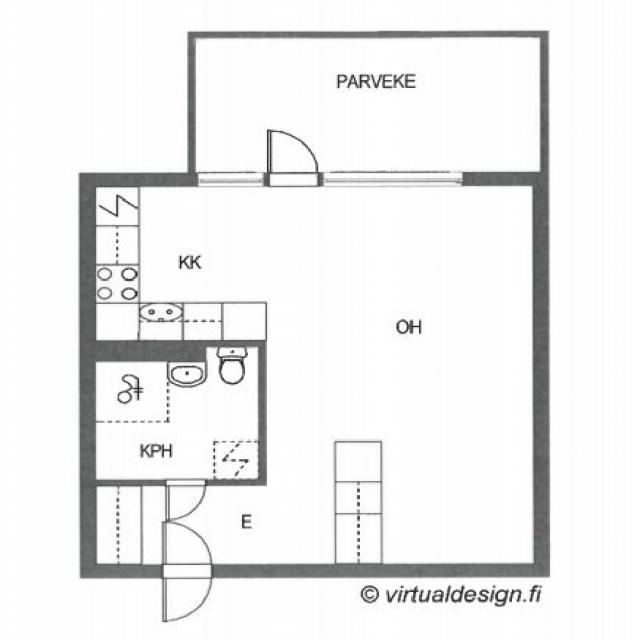door: (268, 129, 318, 188), (164, 564, 211, 620), (164, 522, 211, 578), (166, 478, 206, 521)
